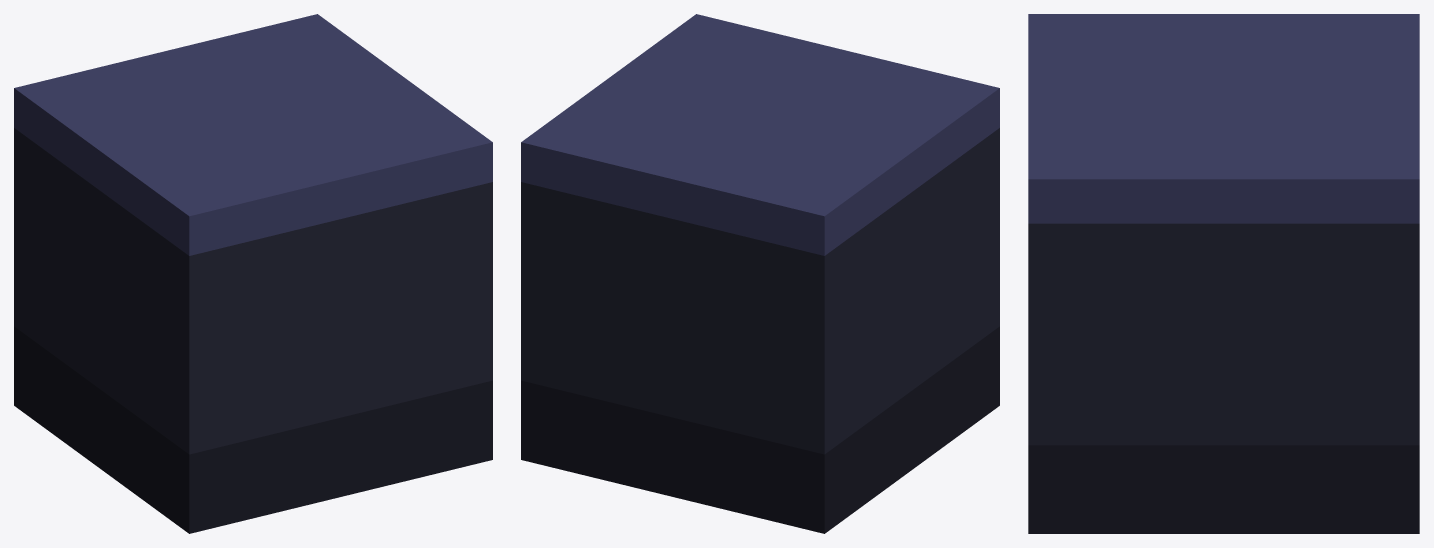
File: Wall_A.dae
3 views of the same model, side by side, from view 1: azimuth 30°, elevation 25°; view 2: azimuth 150°, elevation 25°; view 3: azimuth 270°, elevation 25° (orthographic). The views are drawn at different scales.
Parts seen in each view (by area): view 1: Wall_A; view 2: Wall_A; view 3: Wall_A.
Boxes of the visible parts, x1,y1,x2,y2 form: Wall_A: (14, 14, 492, 533); Wall_A: (521, 14, 999, 533); Wall_A: (1028, 14, 1419, 533).
Size of the model in its own units: 1 by 1 by 1.
